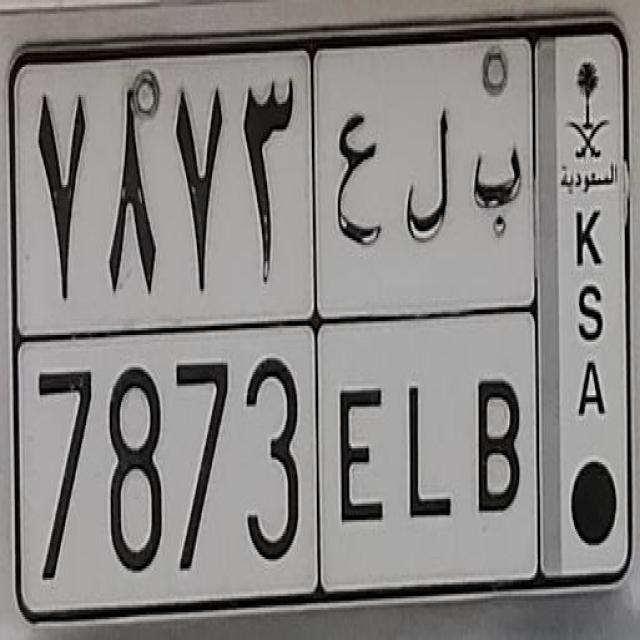license_plate: (11, 17, 633, 620)
